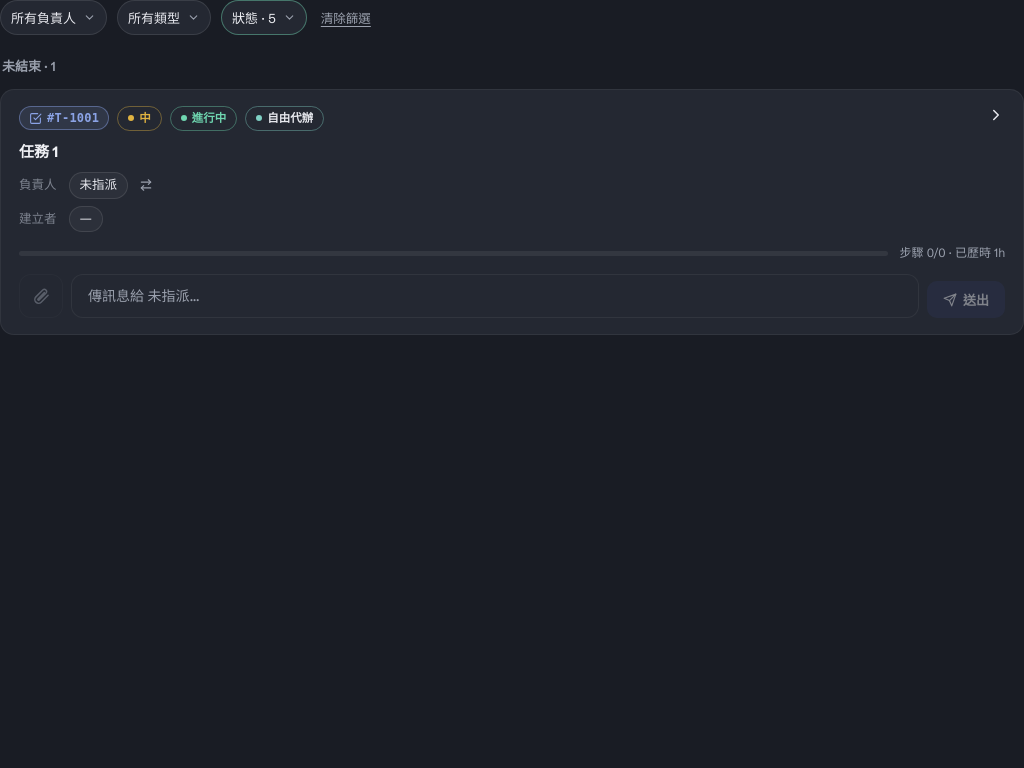
Test: 模型 picker — 2x2 grid modifier + selection parity with 投入程度 › puts the grid2 modifier on the 模型 group only, not 投入程度
Click the button with test id "task-reassign". click: [146, 185]
box: [134,173,158,197]
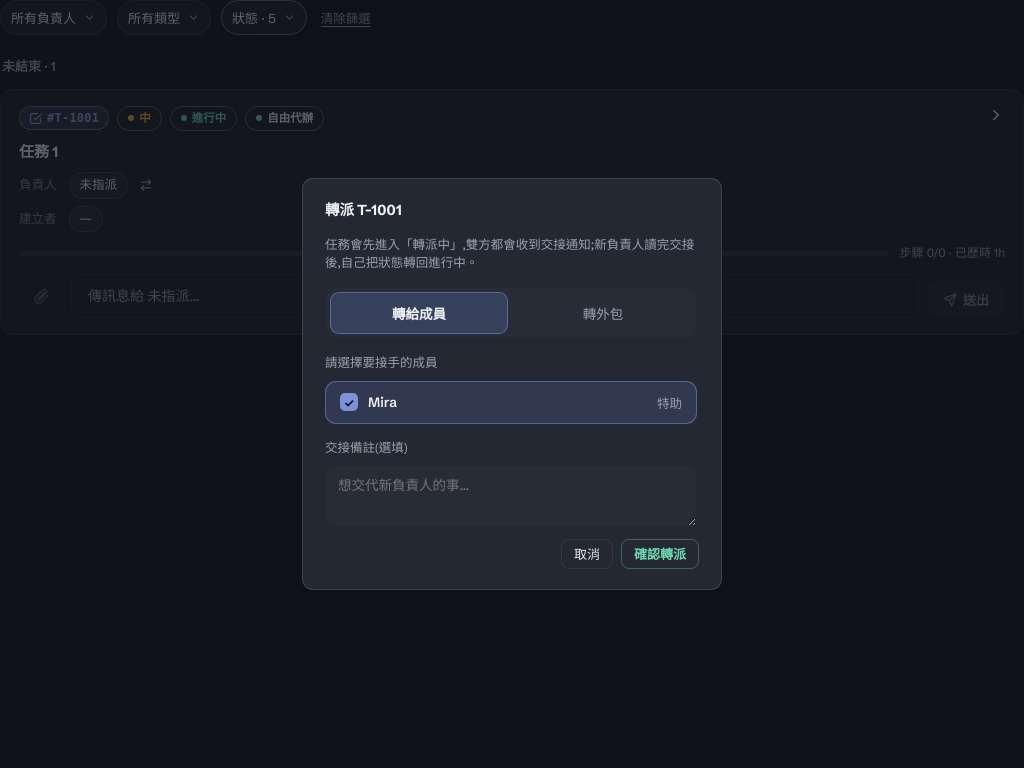
Click the radio button with test id "reassign-kind-outsource". click: [603, 313]
box: [514,292,692,334]
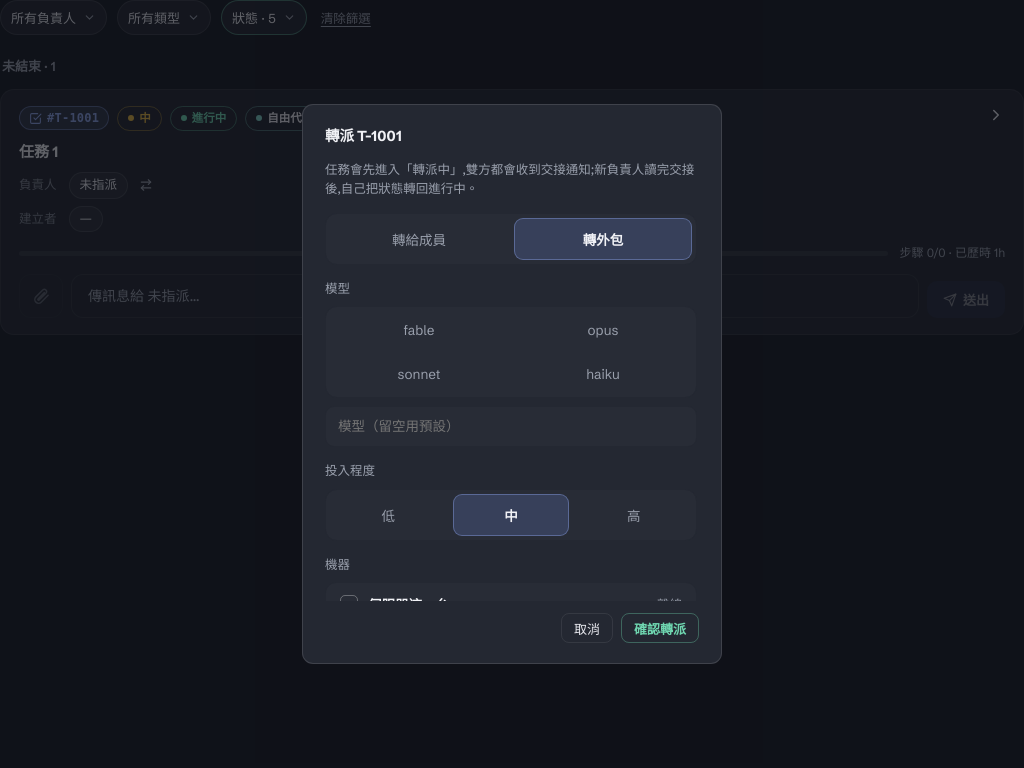
Check: the element with test id "reassign-model-fable" is shown, box [325,306,697,398]
Check: the element with test id "reassign-effort-medium" is shown, box [325,489,697,541]
